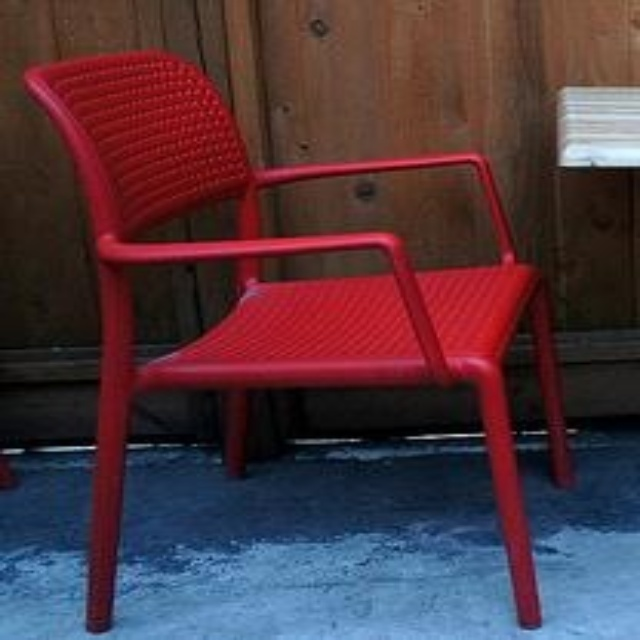obstacle: (25, 50, 569, 630)
